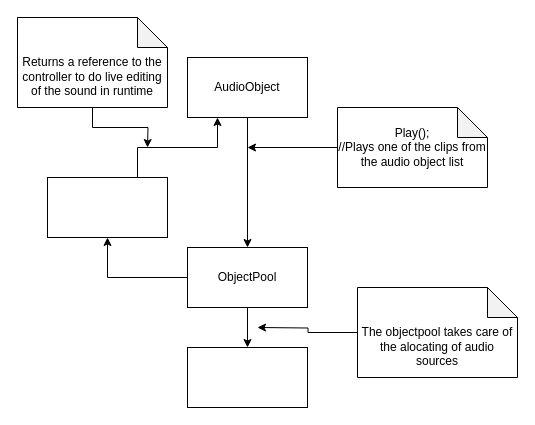
The diagram is 535 pixels wide and 425 high, and some of its shapes have lost their labels. The shapes that lost their labels are listed below. From the top down, each one's centre as x and y in pixels, then its label:
At point (107, 207): "AudioController".
At point (247, 377): "AudioSource".
